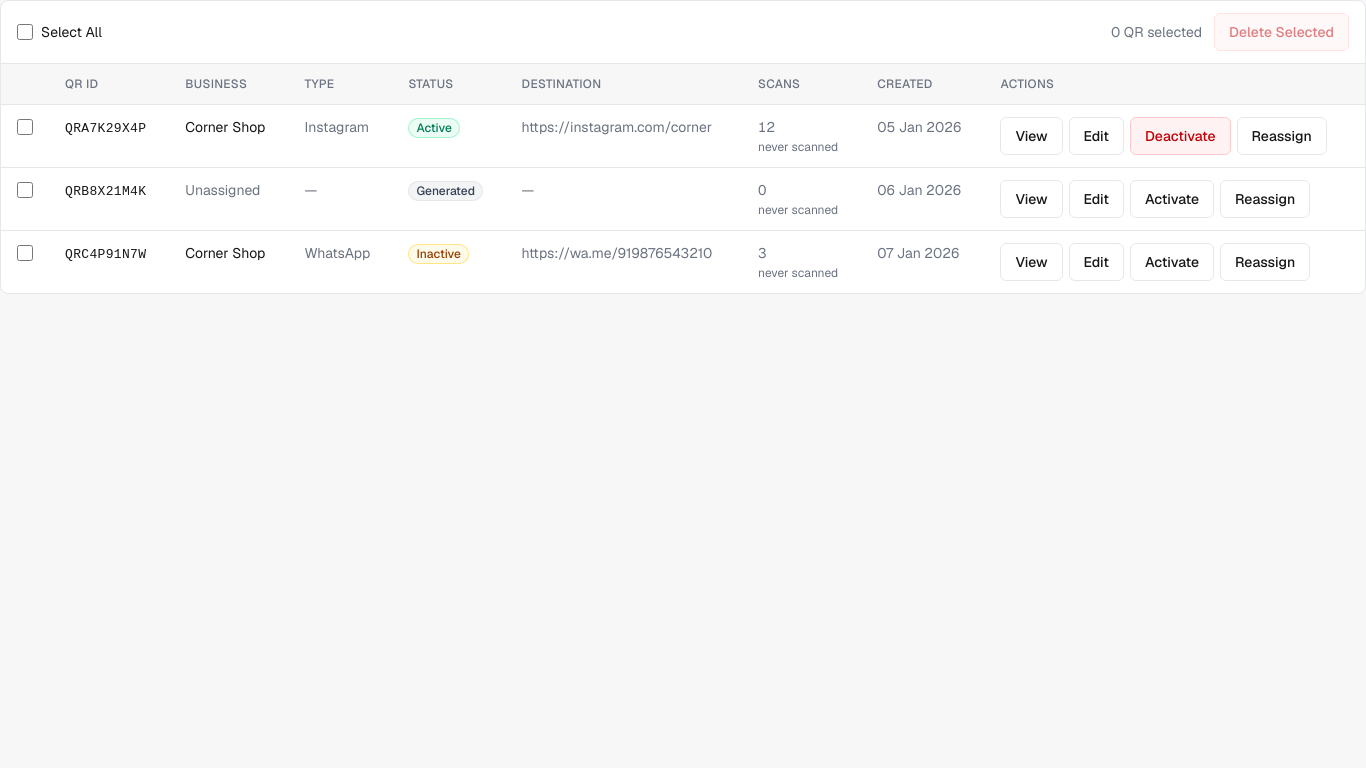
Test: confirming a deletion › uses the singular for a single code
Click the checkbox named "Select QRB8X21M4K": (25, 190) [17,182,33,198]
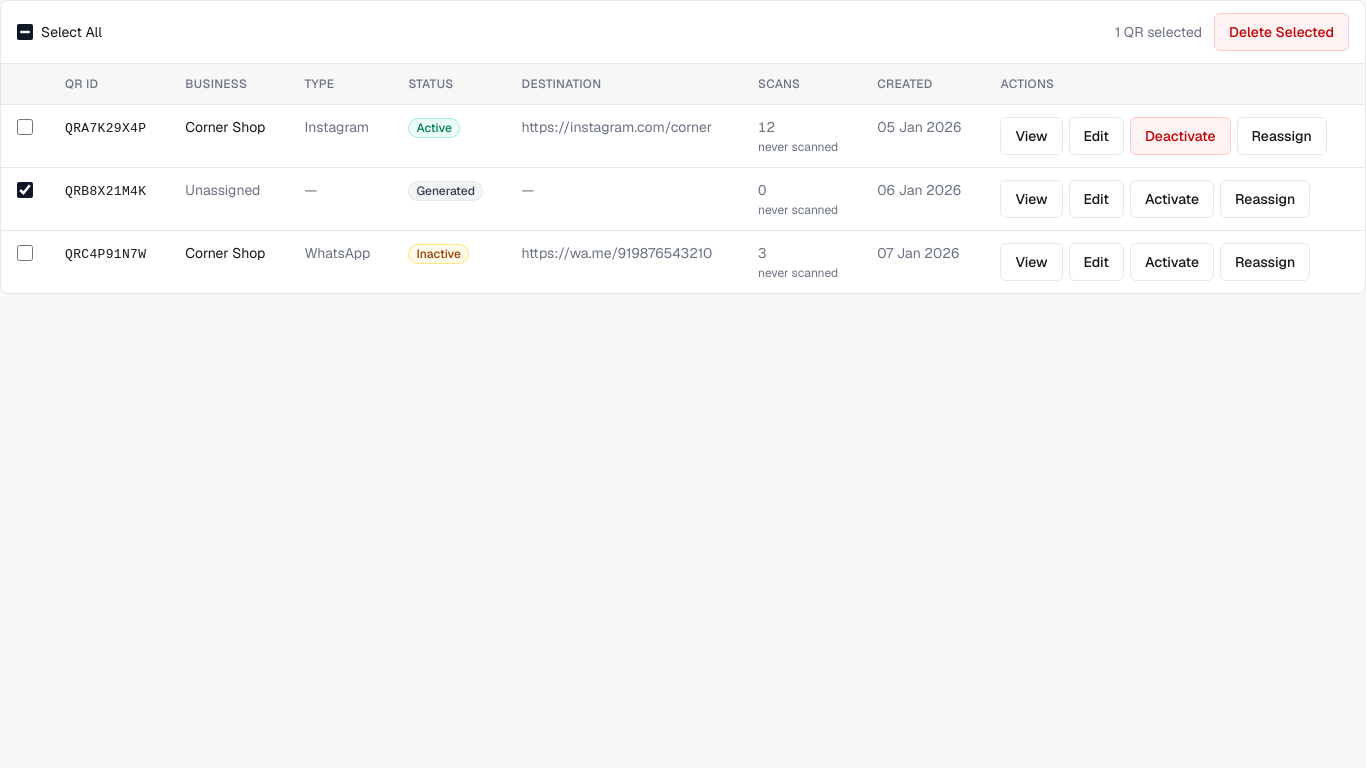
Click the button "Delete Selected": (1282, 32) [1214,13,1349,51]
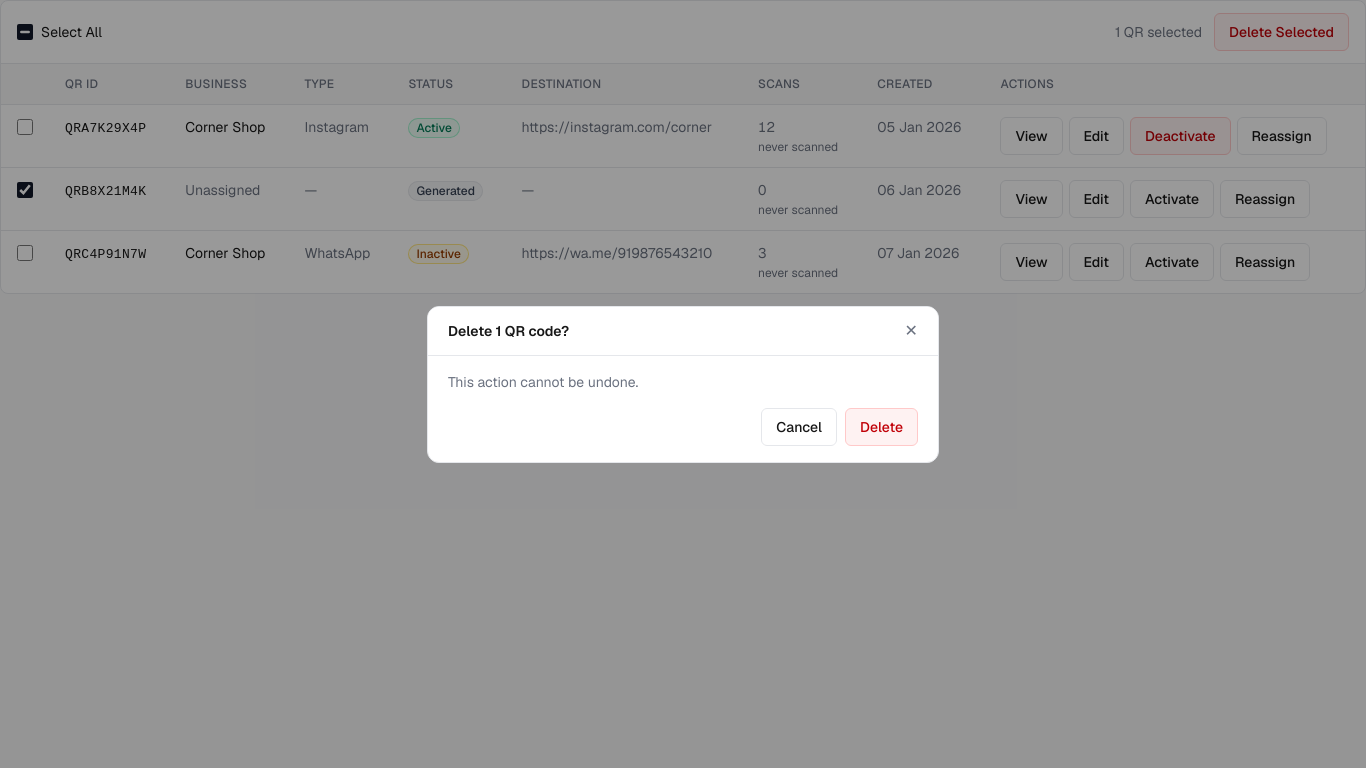
Now the dialog shows "Delete 1 QR code?", box [427,306,939,462]
